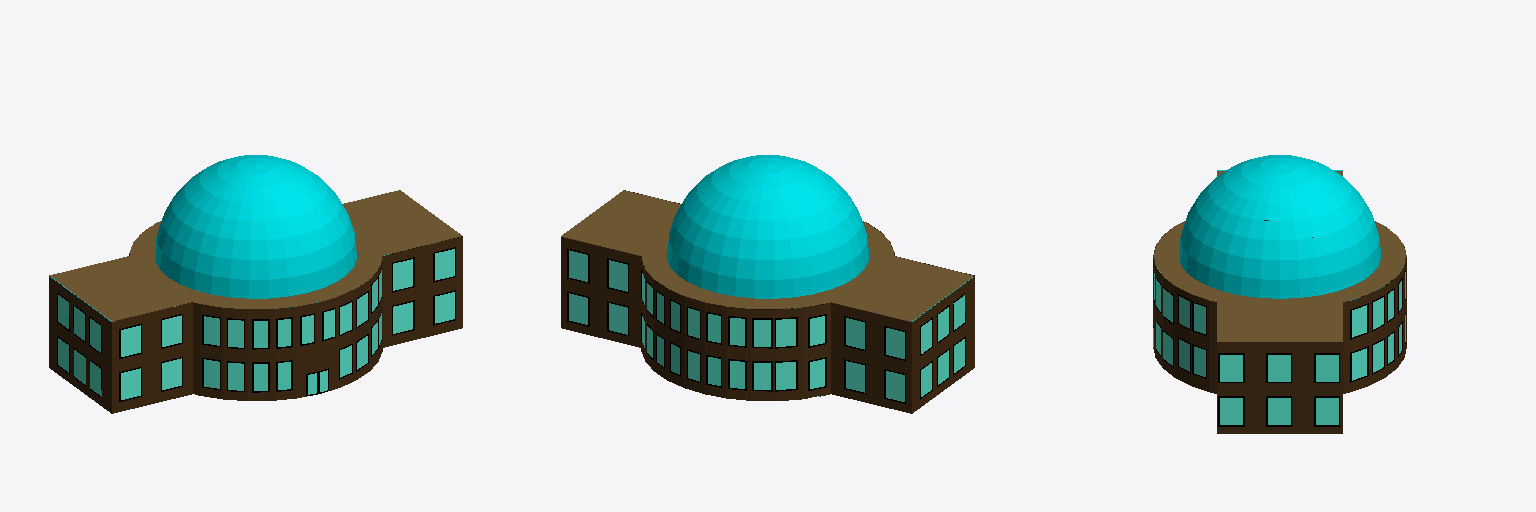
3 renders of one model, left to right at view 1: azimuth 30°, elevation 25°; view 2: azimuth 150°, elevation 25°; view 3: azimuth 270°, elevation 25°, orthographic.
Parts seen in each view (by area): view 1: building2; view 2: building2; view 3: building2.
Part boxes in pixels (x1,y1,x2,y2): building2: (49,155,462,413); building2: (561,155,974,413); building2: (1153,155,1406,433).
Bounding box in the file's own units: 80 × 40 × 50.
1 materials, 1 textured.